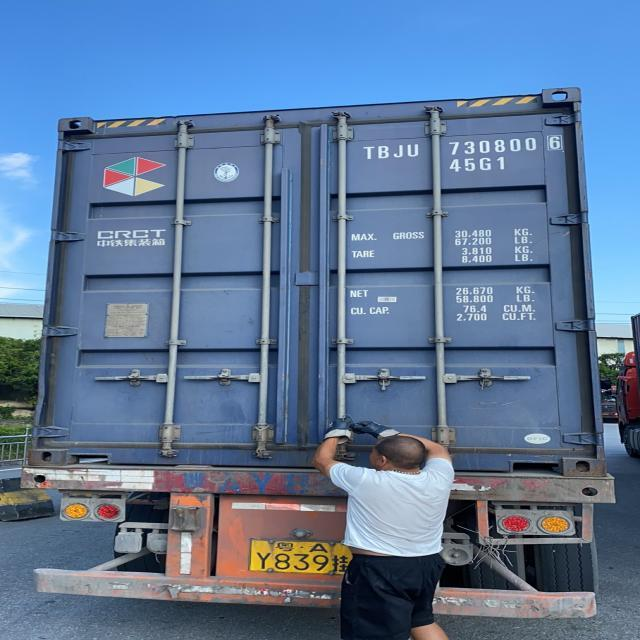ISO: (450, 158, 508, 174)
container_number: (362, 130, 559, 166)
